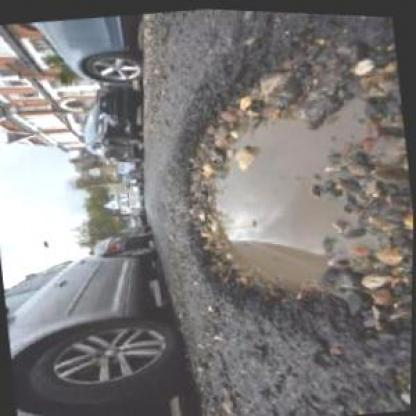pothole: (156, 28, 414, 362)
